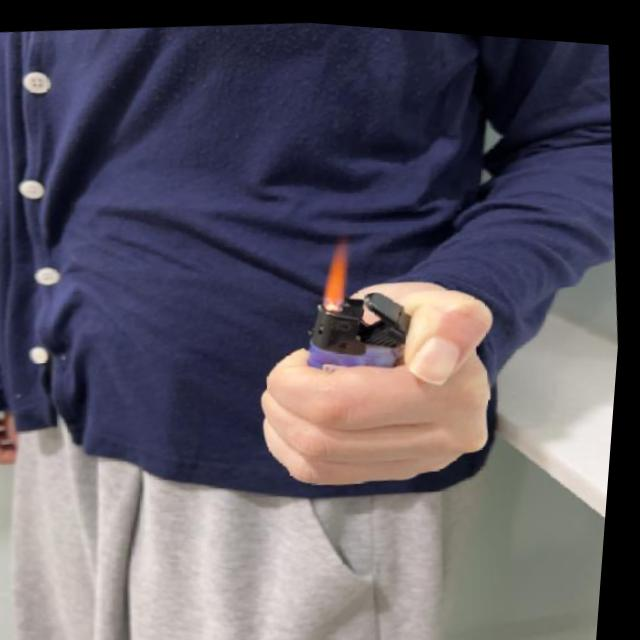Fire: (314, 234, 362, 310)
